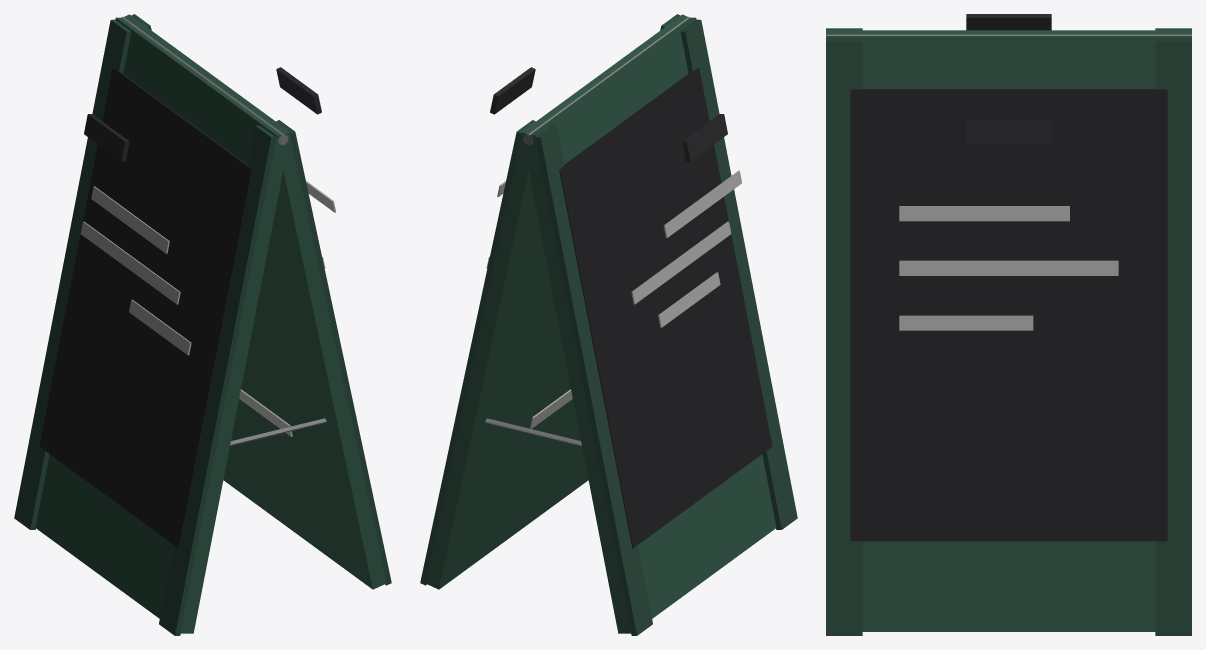
Rendered from SM_Prop_cafe_aboard_1.glb.
3 renders of one model, left to right at view 1: azimuth 30°, elevation 25°; view 2: azimuth 150°, elevation 25°; view 3: azimuth 270°, elevation 25°, orthographic. The views are drawn at different scales.
Parts seen in each view (by area): view 1: SM_Prop_cafe_aboard_1; view 2: SM_Prop_cafe_aboard_1; view 3: SM_Prop_cafe_aboard_1.
Boxes of the visible parts, left/top/right/bottom form: SM_Prop_cafe_aboard_1: left=14, top=14, right=391, bottom=635; SM_Prop_cafe_aboard_1: left=420, top=14, right=797, bottom=635; SM_Prop_cafe_aboard_1: left=826, top=14, right=1191, bottom=635.
Size of the model in its own units: 0.4676 by 0.9844 by 0.6.
